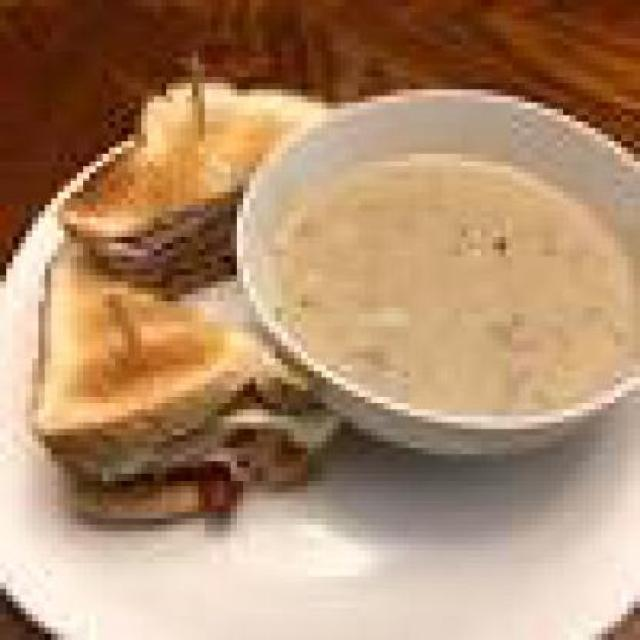clam chowder: (262, 102, 627, 461)
club sandwich: (32, 44, 346, 544)
